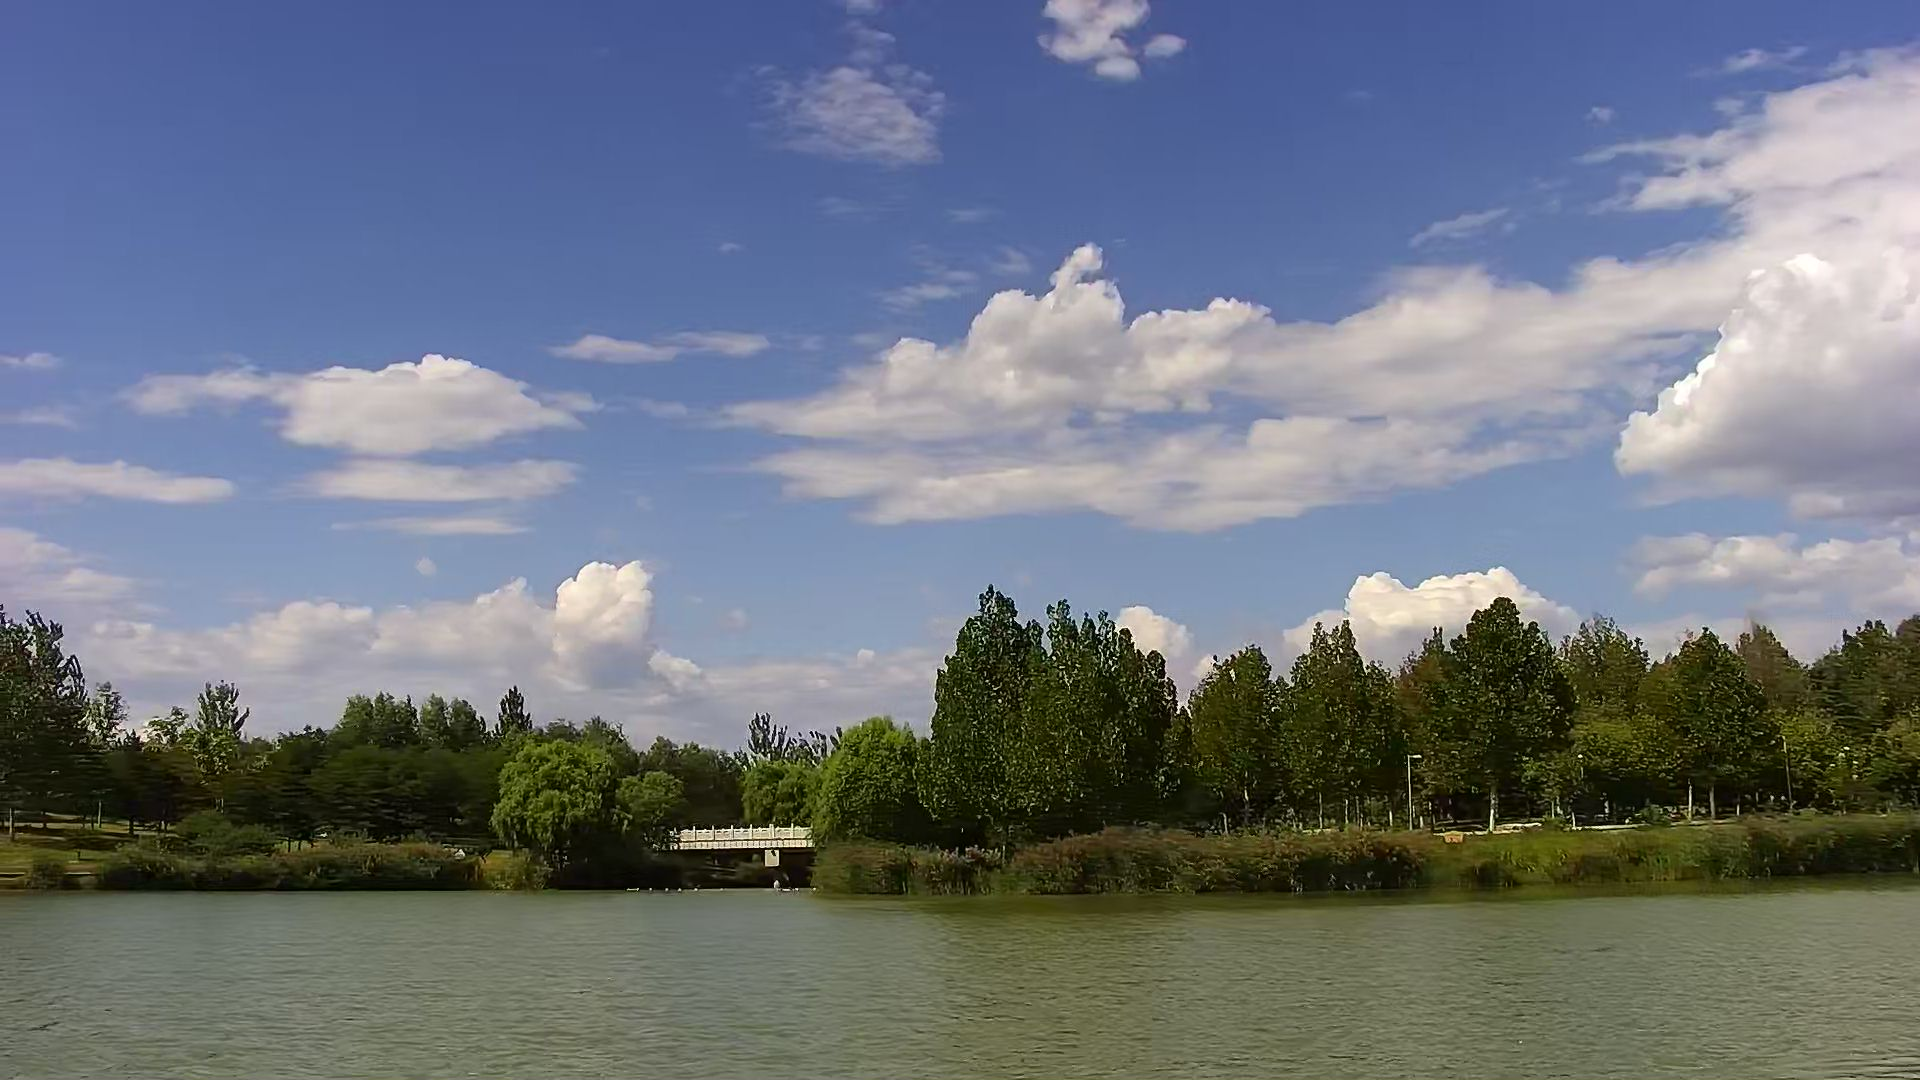bridge: (678, 822, 814, 891)
